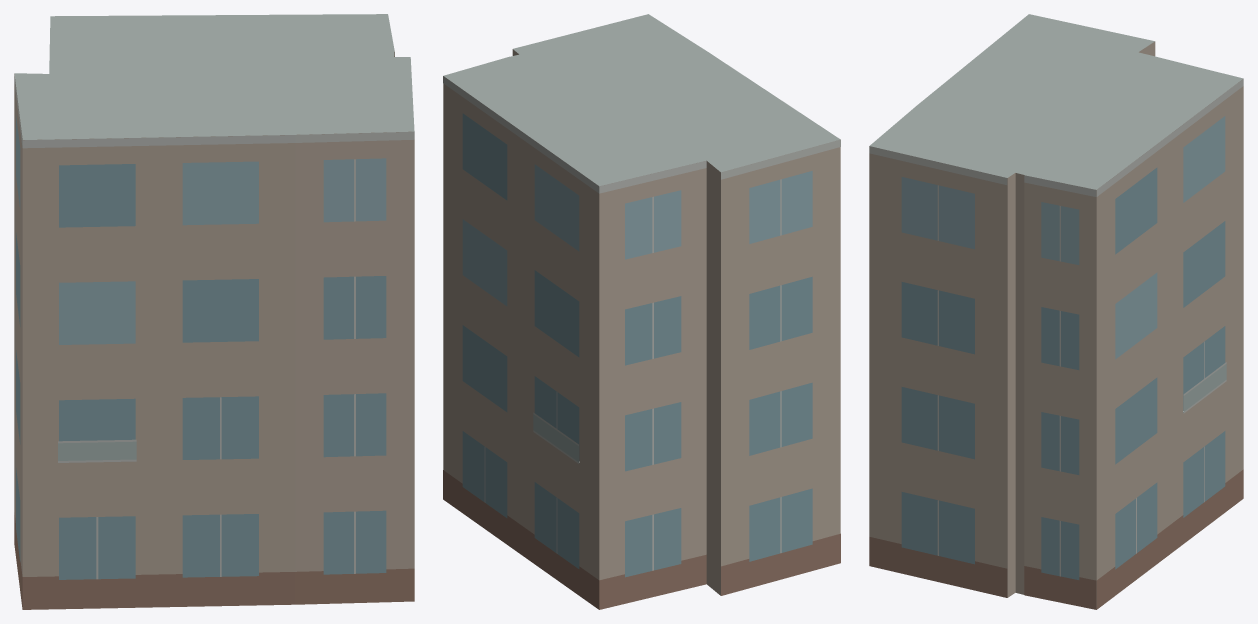
Rendered from survey-upis-32730396.glb.
3 views of the same model, side by side, from view 1: azimuth 30°, elevation 25°; view 2: azimuth 150°, elevation 25°; view 3: azimuth 270°, elevation 25° (orthographic). The views are drawn at different scales.
Visible parts, largest first — view 1: survey-upis-32730396.tmp; view 2: survey-upis-32730396.tmp; view 3: survey-upis-32730396.tmp.
Boxes of the visible parts, x1,y1,x2,y2 form: survey-upis-32730396.tmp: [14, 14, 414, 609]; survey-upis-32730396.tmp: [443, 14, 840, 609]; survey-upis-32730396.tmp: [869, 14, 1243, 609].
Bounding box in the file's own units: 12.58 × 14 × 11.32.
